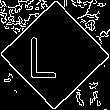L_N: (39, 30, 71, 80)
